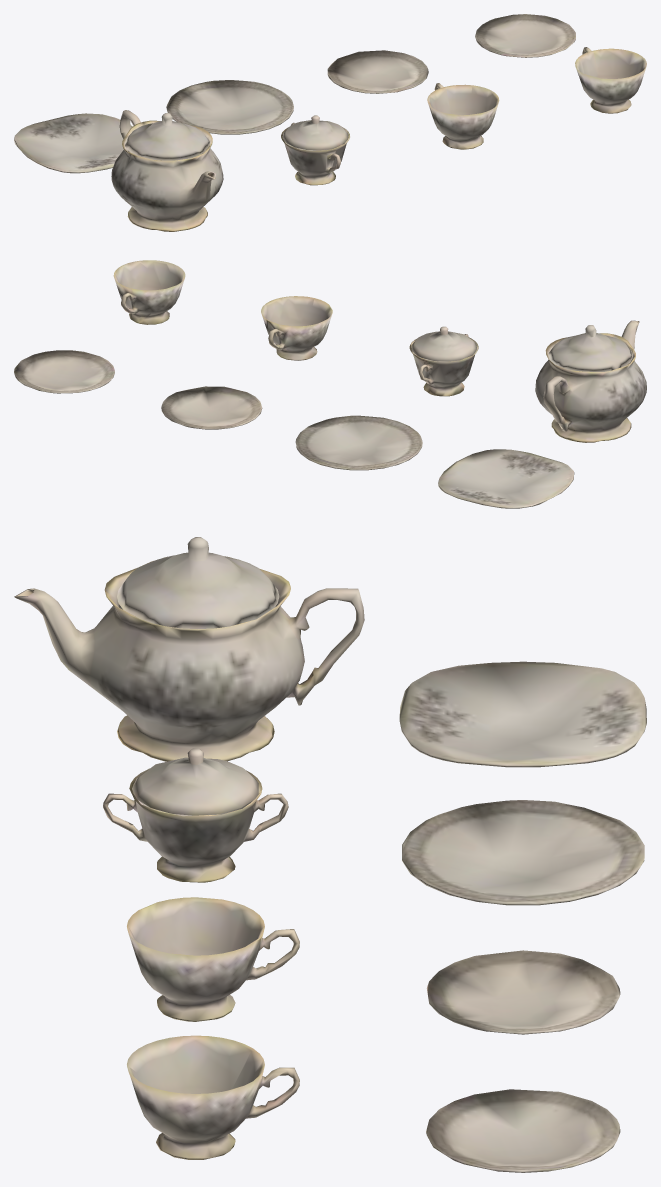
File: p_tea_set_01.glb
3 renders of one model, top to bottom at view 1: azimuth 30°, elevation 25°; view 2: azimuth 150°, elevation 25°; view 3: azimuth 270°, elevation 25°, orthographic. The views are drawn at different scales.
Parts seen in each view (by area): view 1: tea_set_01_plate_large_square_01; view 2: tea_set_01_plate_large_square_01; view 3: tea_set_01_plate_large_square_01.
Boxes of the visible parts, x1,y1,x2,y2 form: tea_set_01_plate_large_square_01: (14,14,646,231); tea_set_01_plate_large_square_01: (14,260,646,508); tea_set_01_plate_large_square_01: (14,537,646,1172).
Size of the model in its own units: 0.918 by 0.165 by 0.4835.
Materials: 1 (1 with a texture image).
